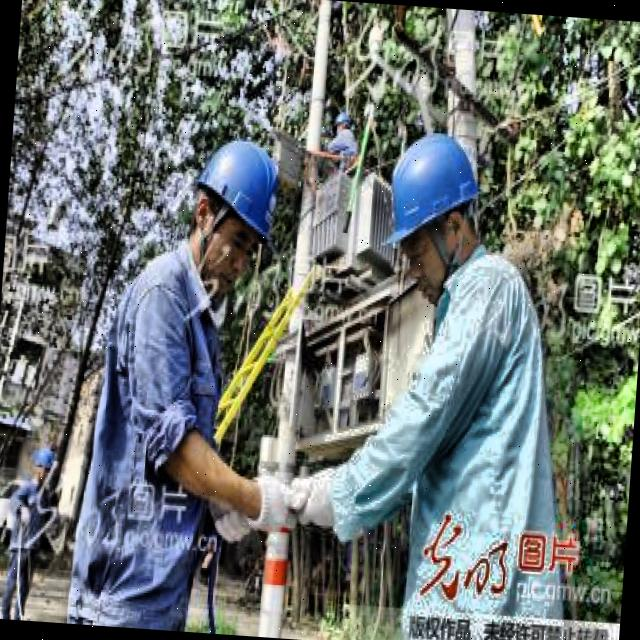helmet: (372, 114, 494, 300), (180, 123, 288, 290), (27, 447, 59, 492)
